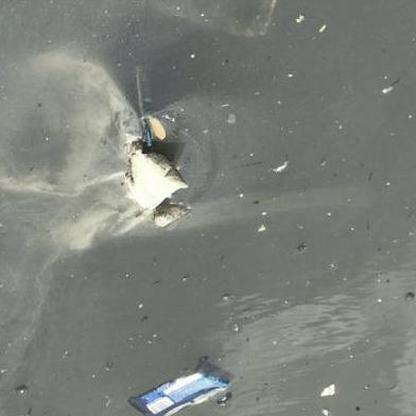plastic bag: (15, 59, 187, 245), (128, 357, 230, 416)
